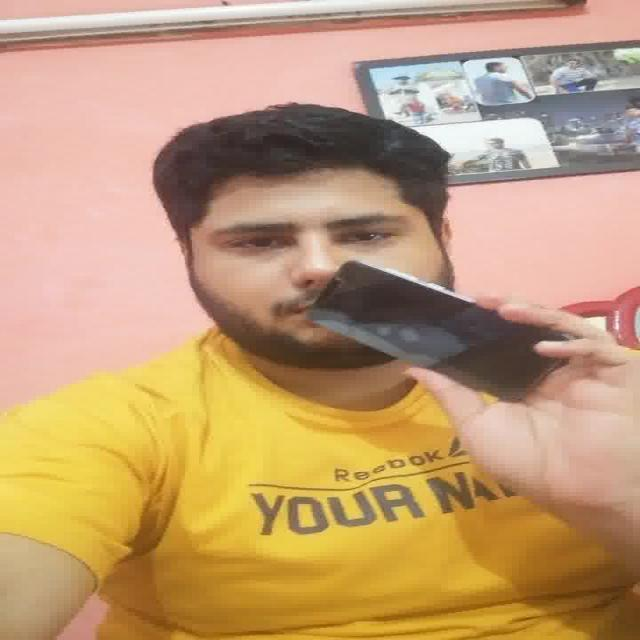Phone: (303, 259, 575, 407)
